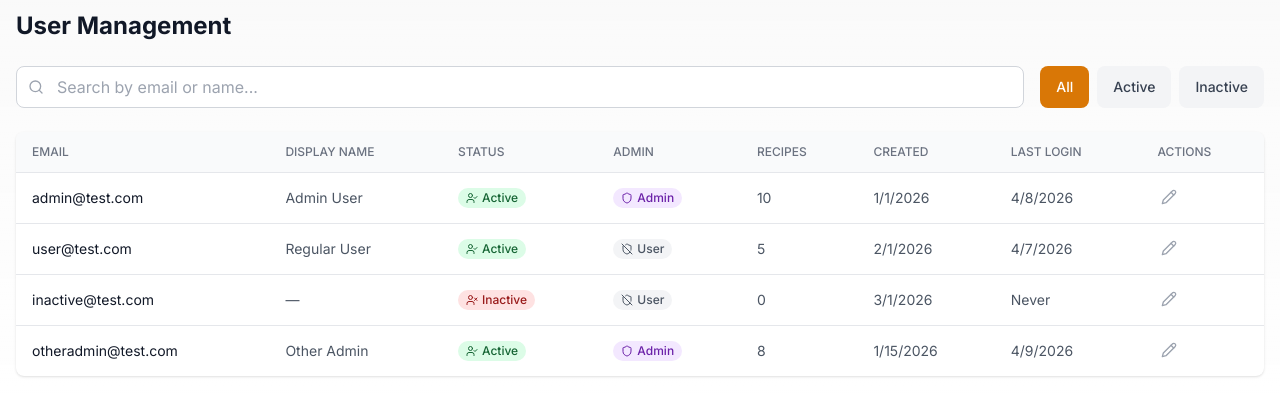
Scenario: UsersPage › status filter shows active users
The image size is (1280, 394).
Check: the text "admin@test.com" is shown, box [16,172,269,224]
Click the button "Active".
click(1134, 87)  # box [1097,66,1171,108]
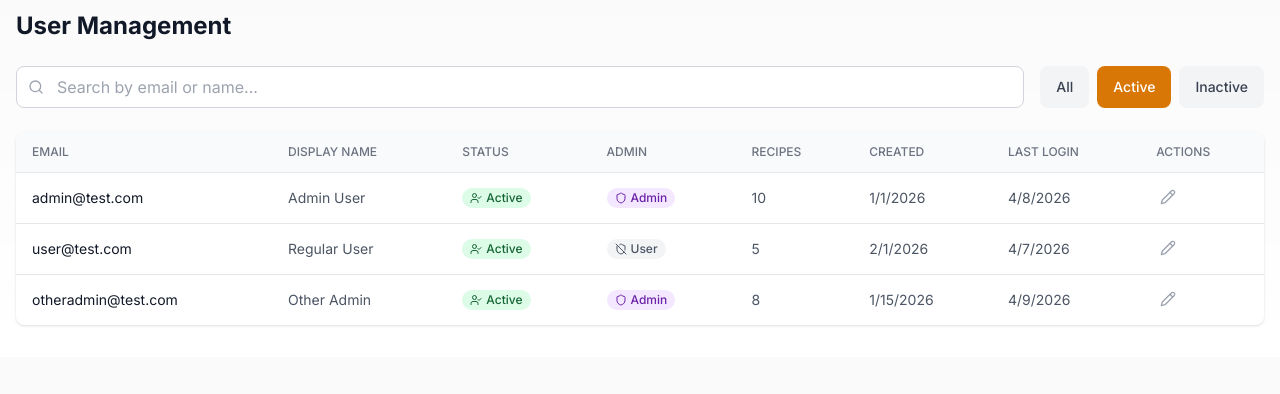
Check: the text "admin@test.com" is shown, box [16,172,272,224]
Check: the text "inactive@test.com" is gone
